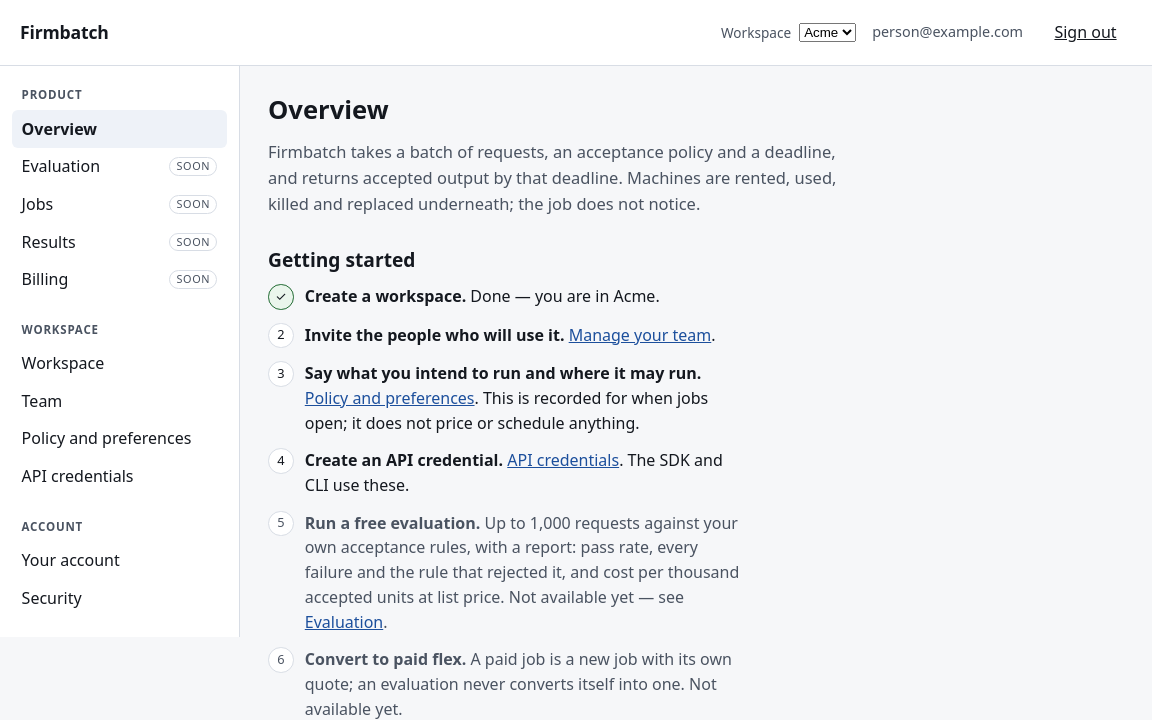
Test case: switching workspaces › refuses a workspace the membership no longer covers, and refreshes the list
This screenshot has width=1152, height=720.
Expected: the heading "Overview" is shown, [268,92,389,127]
Select "Beta" in the dropdown labelled "Workspace" at coordinates (828, 33), box [799,23,856,42]
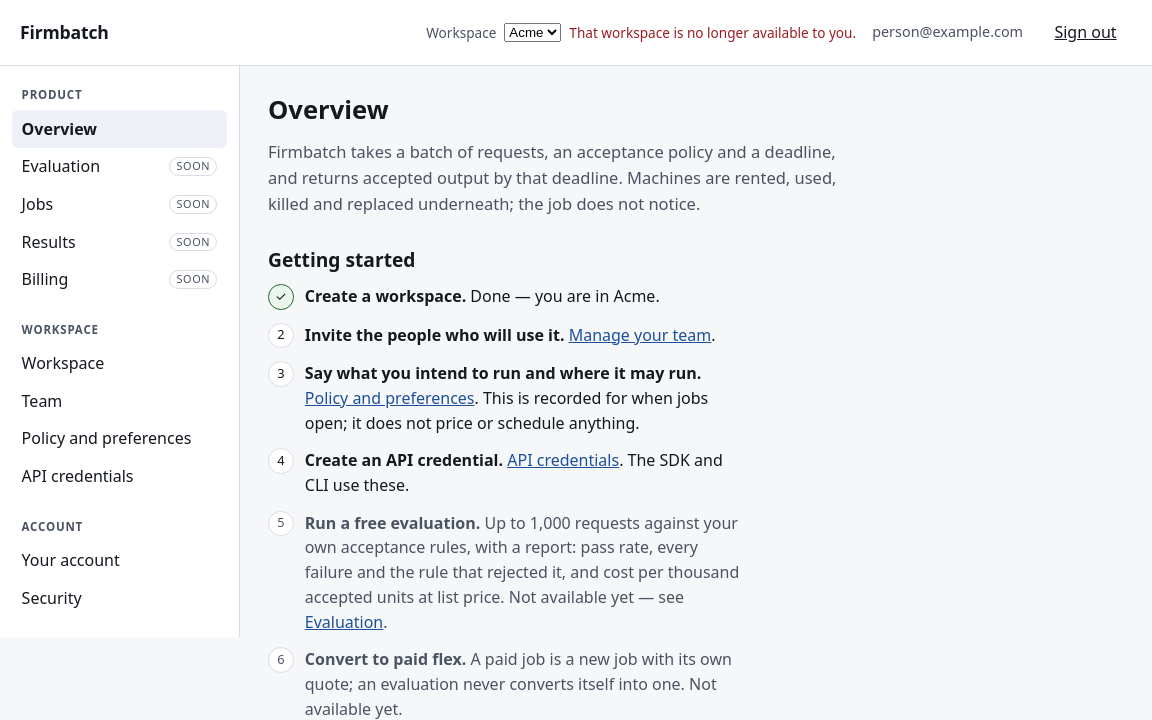
Result: the text "That workspace is no longer available to you." is shown at [569,22,856,43]
